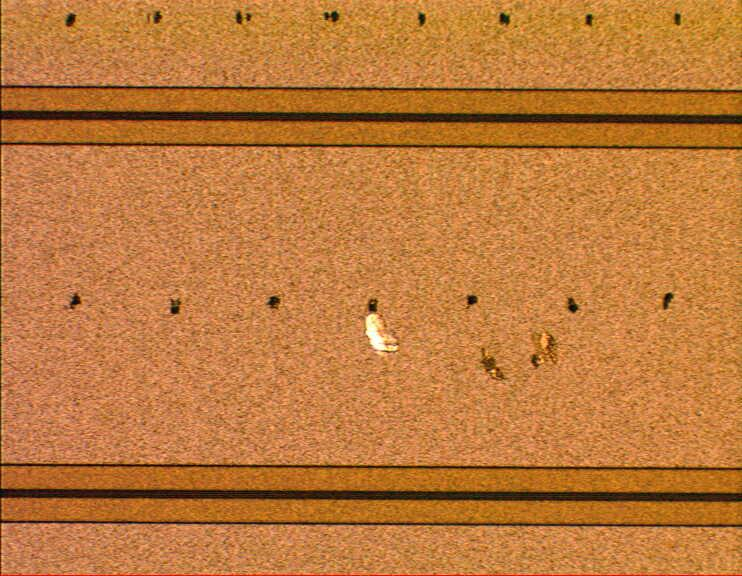SCRATCH: (353, 288, 576, 403)
